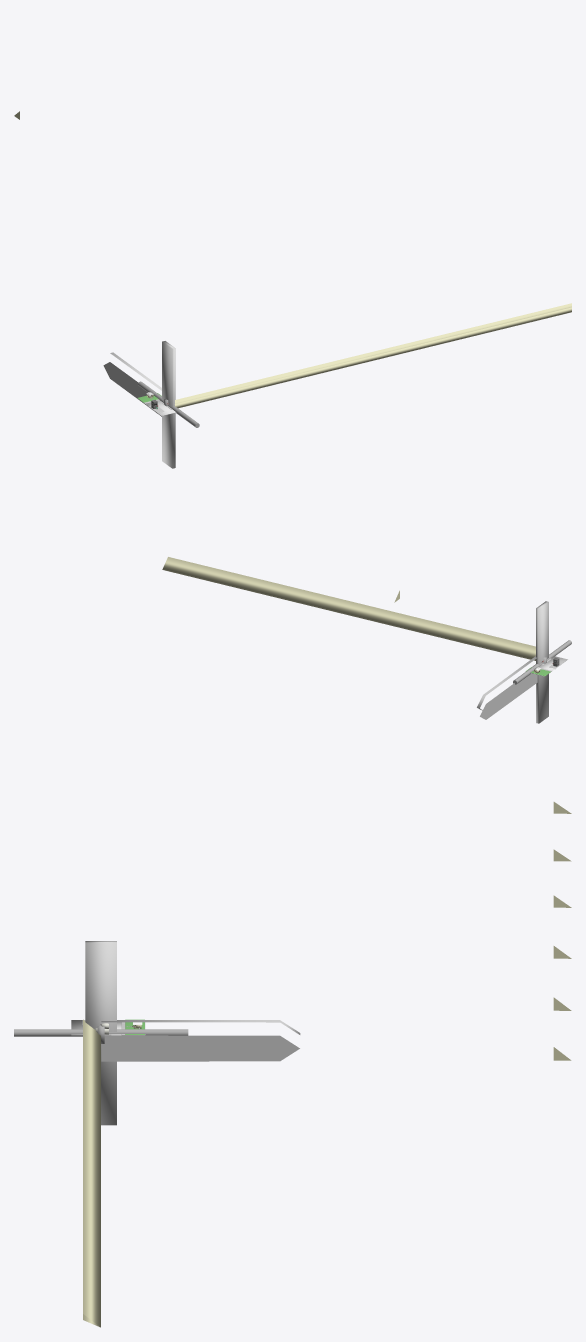
The model's file is basetownnew.gltf.
3 views of the same model, one above another, from view 1: azimuth 30°, elevation 25°; view 2: azimuth 150°, elevation 25°; view 3: azimuth 270°, elevation 25° (orthographic). The views are drawn at different scales.
Parts seen in each view (by area): view 1: Extrude_2_2, Cube_25, Cap_1_144, Extrude_3_2; view 2: Extrude_1_25, Cube_25, Cap_1_144, Cylinder; view 3: Extrude_1_25, Cap_2_144, Cube_25, Cylinder.
Part boxes in pixels (<box>): Extrude_2_2: <box>175,307,571,408</box>; Cube_25: <box>162,341,175,468</box>; Cap_1_144: <box>103,362,161,416</box>; Extrude_3_2: <box>175,320,504,400</box>; Extrude_1_25: <box>162,557,535,660</box>; Cube_25: <box>536,601,548,723</box>; Cap_1_144: <box>480,673,537,719</box>; Cylinder: <box>513,640,571,684</box>; Extrude_1_25: <box>83,1019,100,1327</box>; Cap_2_144: <box>101,1035,299,1061</box>; Cube_25: <box>85,941,116,1125</box>; Cylinder: <box>14,1029,188,1036</box>.
Bounding box in the file's own units: 1056 × 596 × 811.
